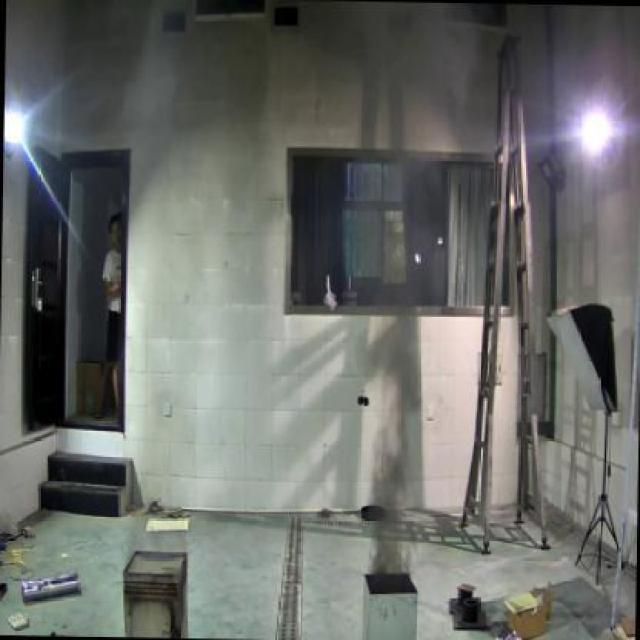fire: (366, 332, 426, 574)
